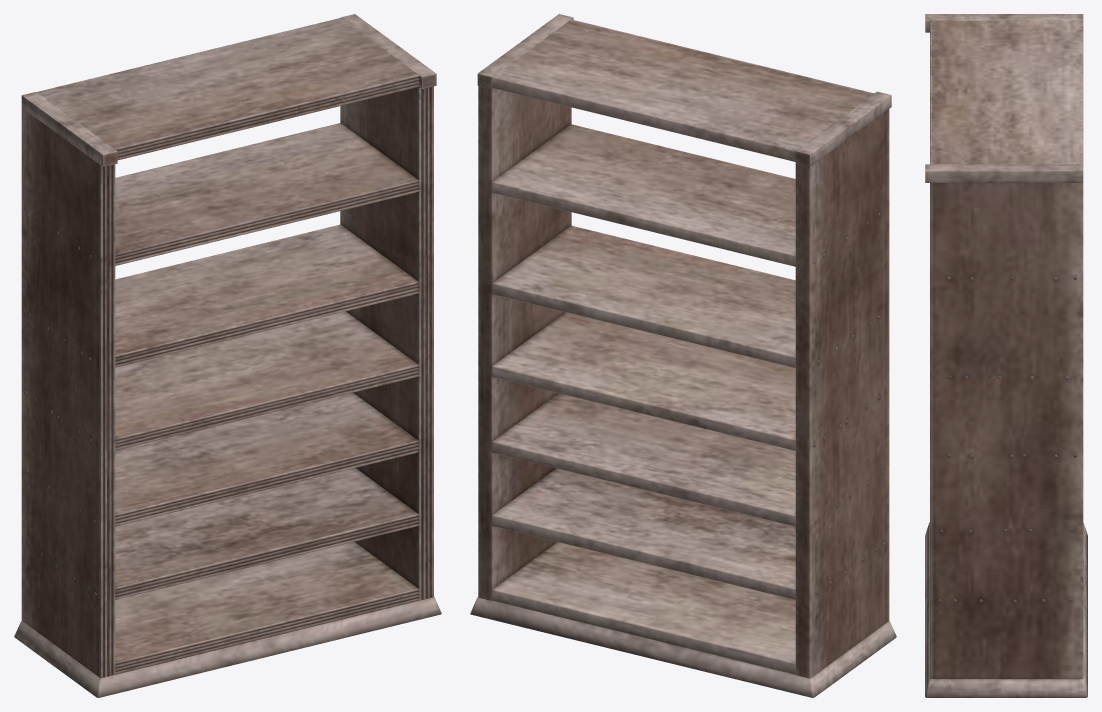
The picture shows the model from 3 angles, left to right: view 1: azimuth 30°, elevation 25°; view 2: azimuth 150°, elevation 25°; view 3: azimuth 270°, elevation 25°; orthographic projection. The views are drawn at different scales.
Parts seen in each view (by area): view 1: wooden_bookshelf_worn; view 2: wooden_bookshelf_worn; view 3: wooden_bookshelf_worn.
Part boxes in pixels (bbox=[...]): wooden_bookshelf_worn: bbox=[14, 14, 441, 697]; wooden_bookshelf_worn: bbox=[470, 14, 896, 697]; wooden_bookshelf_worn: bbox=[925, 14, 1087, 697].
Size of the model in its own units: 1.37 by 2.06 by 0.5813.
1 material, 1 textured.
